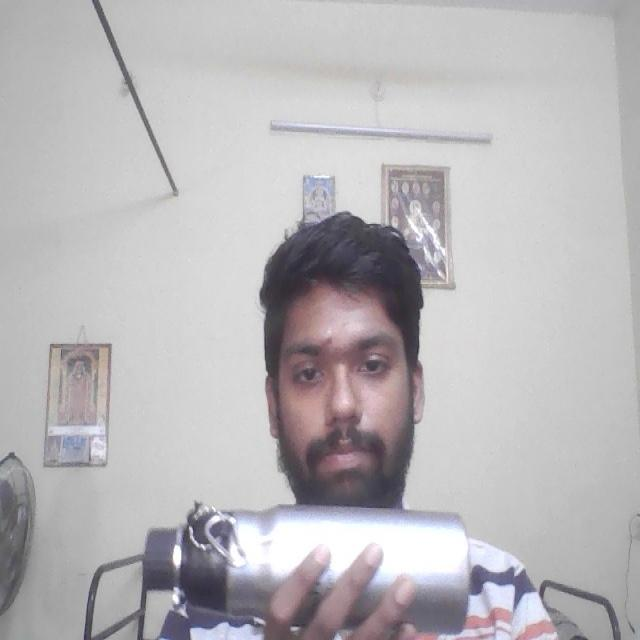Drinking: (137, 507, 478, 632)
